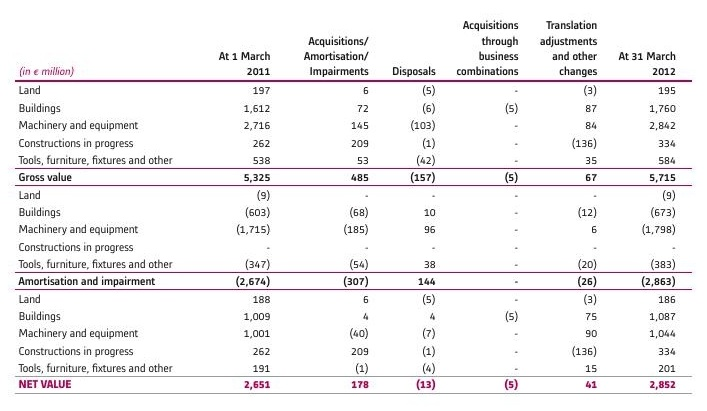table: (0, 0, 707, 411)
